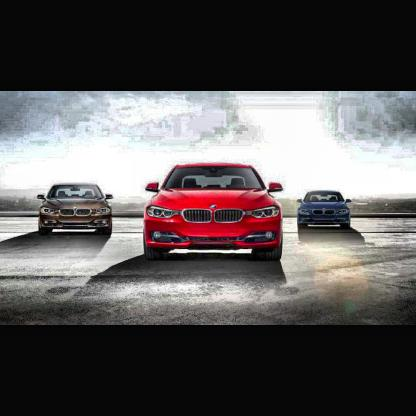BMW 3 Series Sedan 2012: (148, 166, 285, 265)
